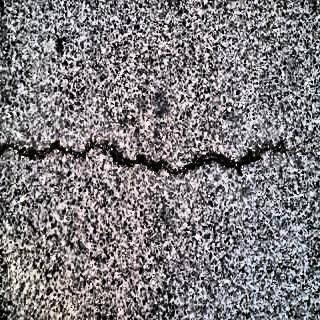crack: (2, 128, 279, 184)
